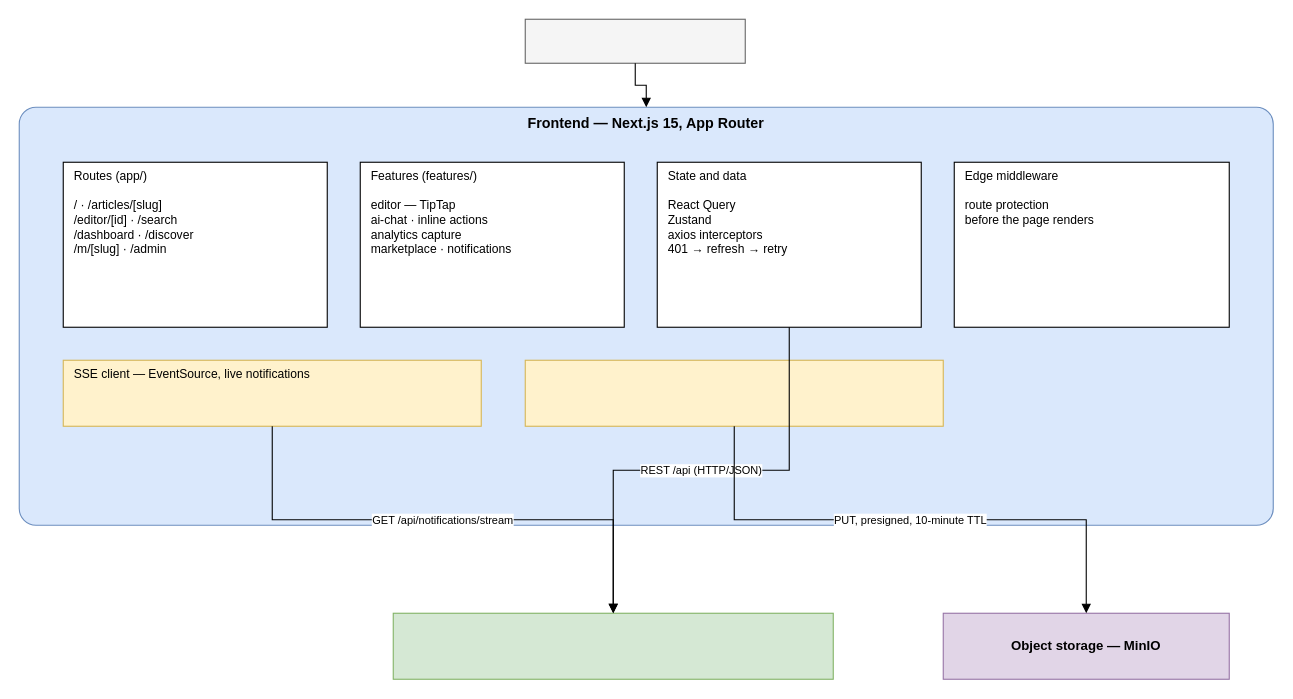
Image size: 1293x699. Some labels were removed from this diagram. Each missing label, with the centre of its shape:
Backend — NestJS 11: (x=612, y=645)
Browser: (x=634, y=40)
Direct upload — browser PUTs to presigned URL: (x=733, y=392)
